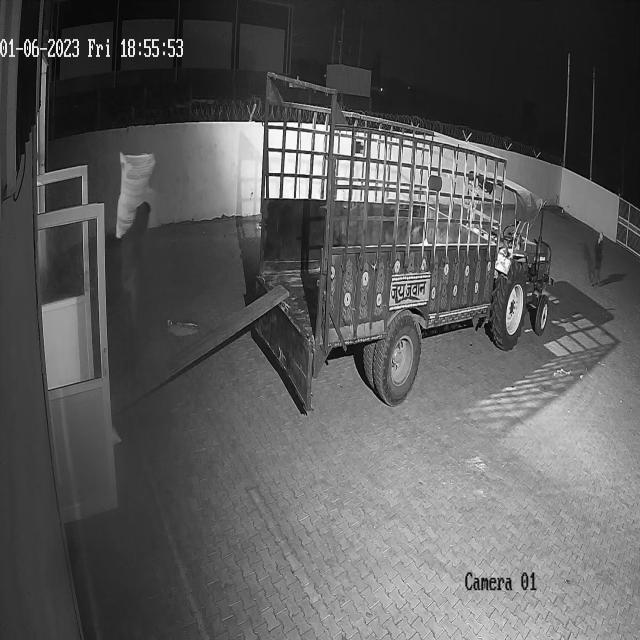sack: (115, 151, 155, 240)
